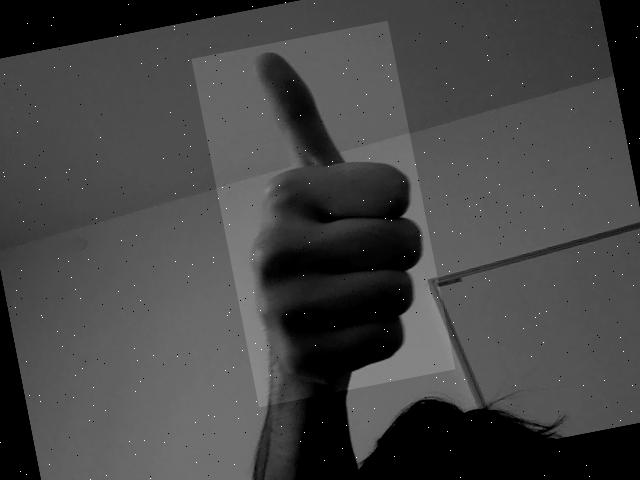good: (238, 40, 434, 387)
